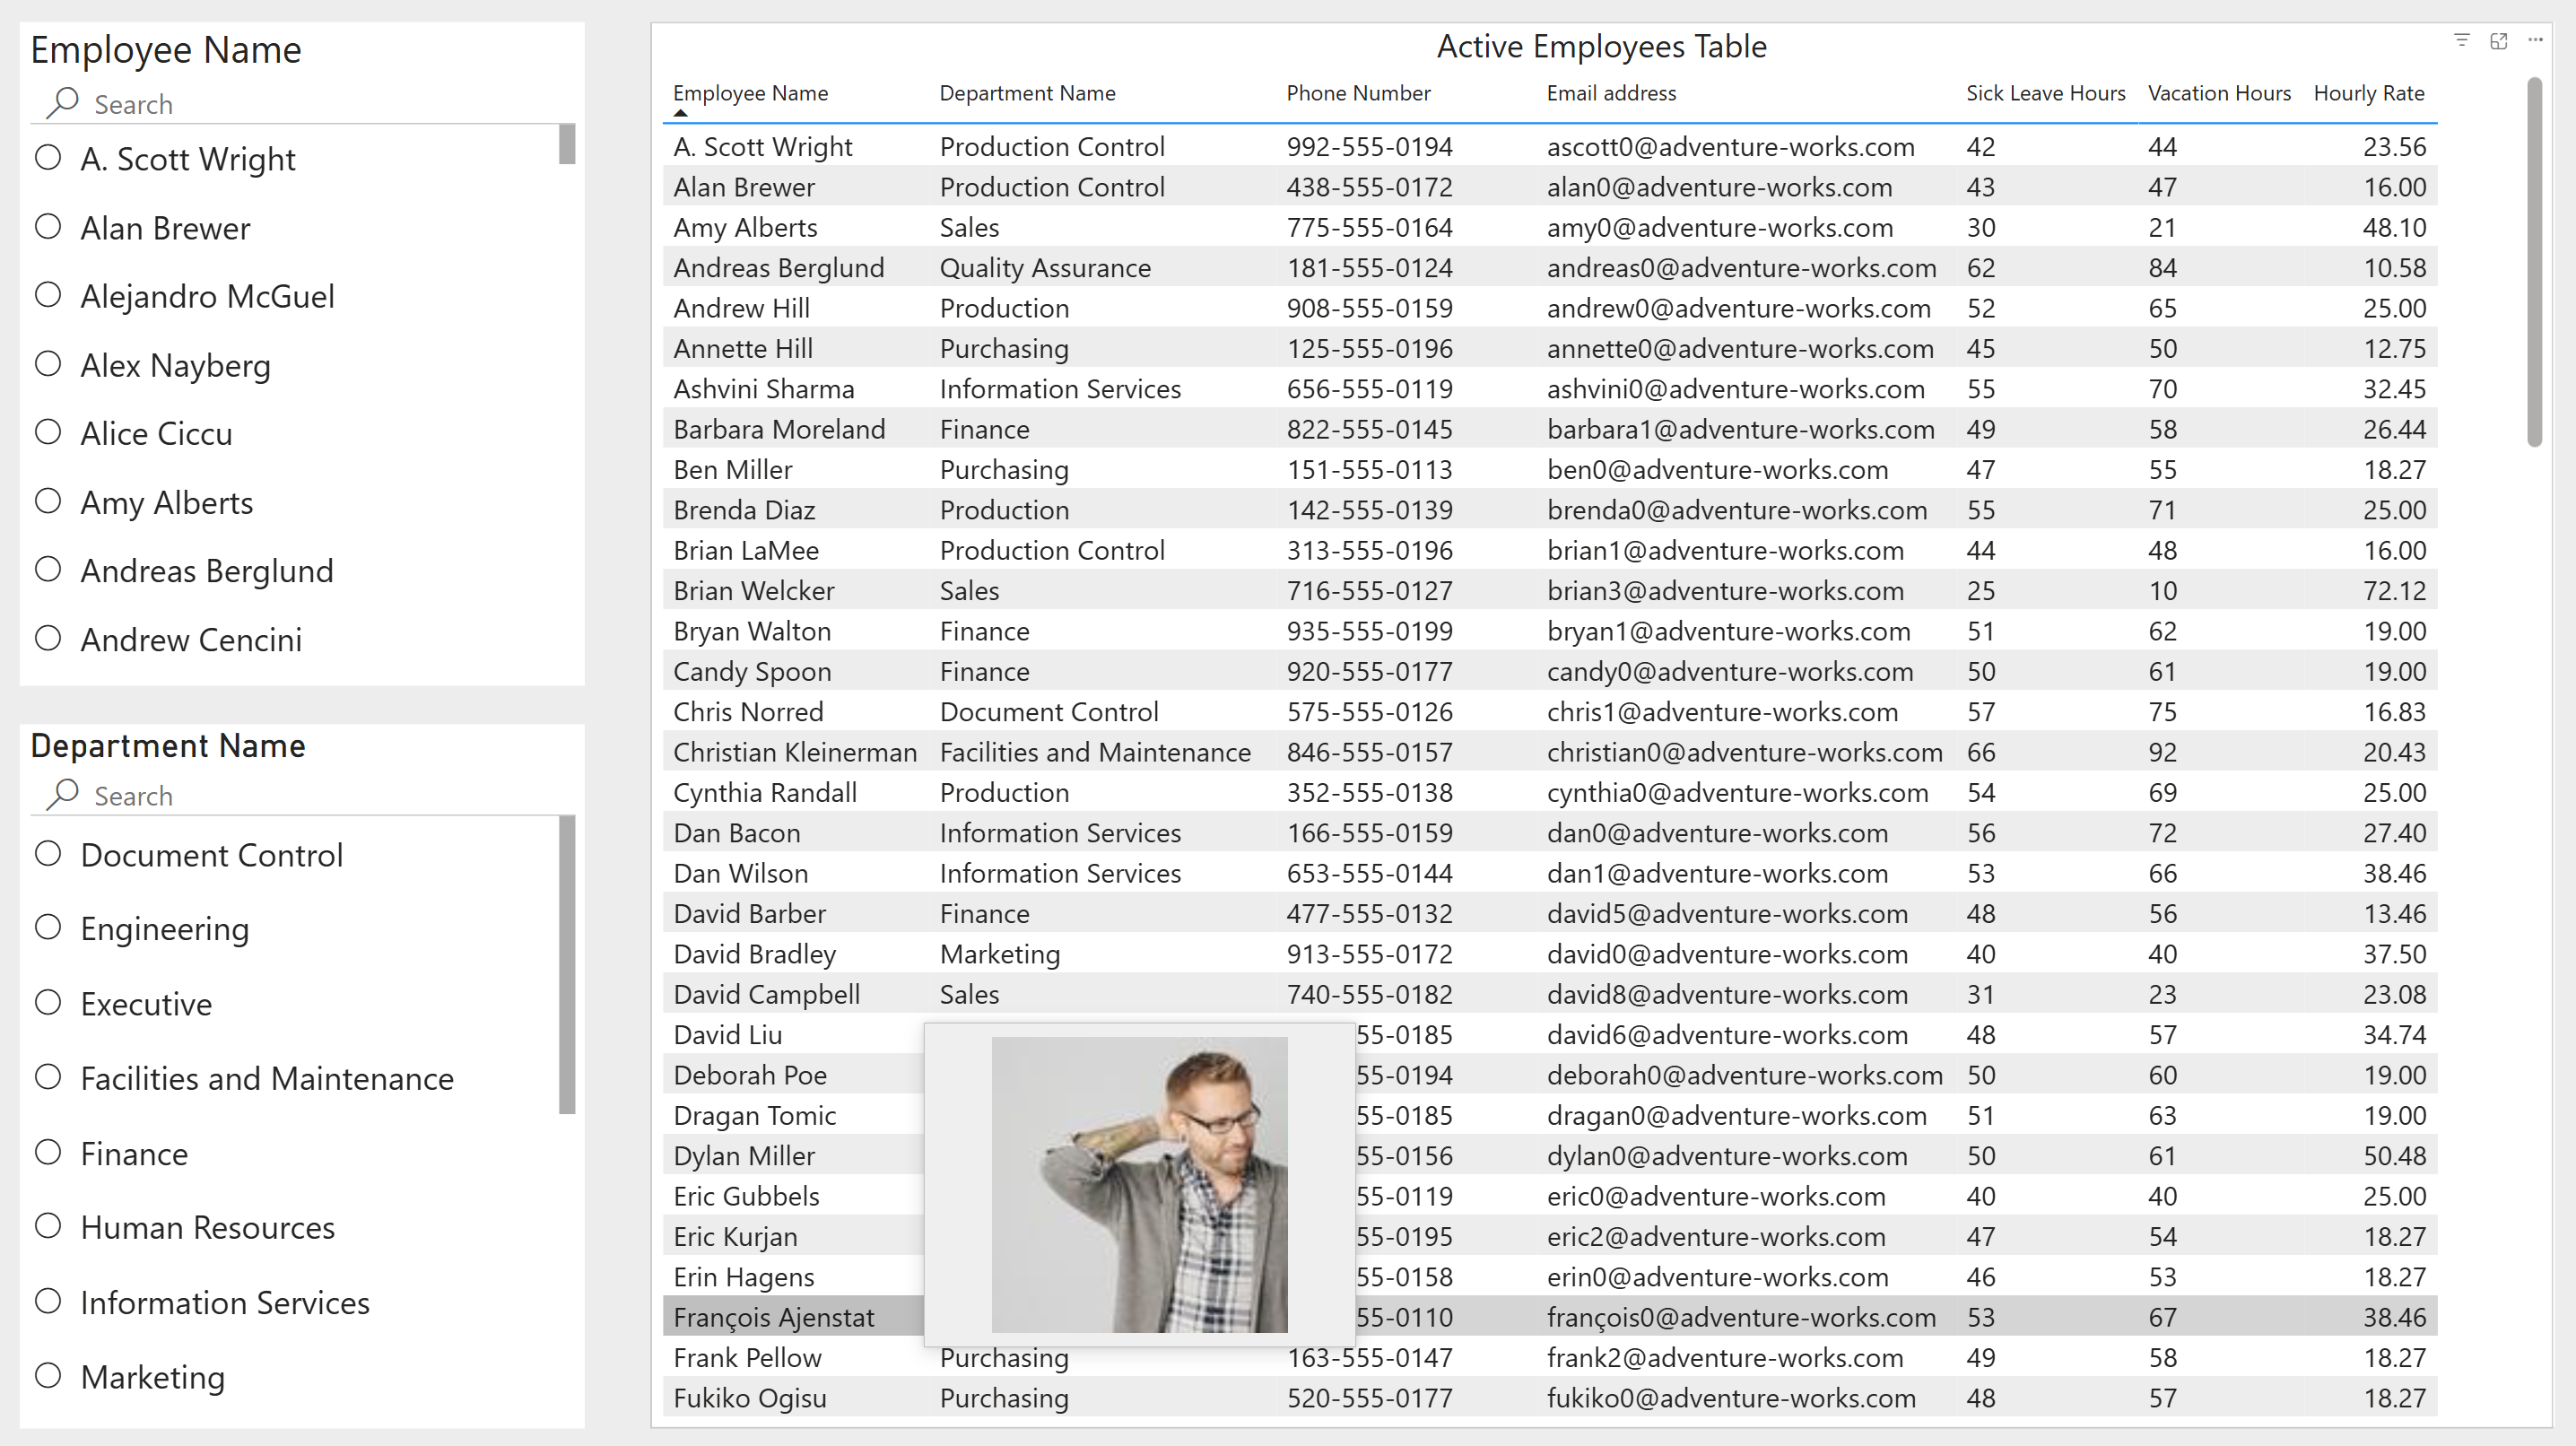

The dashboard page shown, as its layout file describes it:
{"tool":"powerbi","page":{"name":"Employee Details","canvas":[1280,720],"ordinal":1},"visuals":[{"type":"shape","box":[0,0,1280,720.5],"z":0},{"type":"tableEx","title":"Active Employees Table","fields":{"Values":["EmployeeDepartmentHistory.Full Name","department.Name","contact.Phone","contact.Emailaddress","employee.SickLeaveHours","employee.VacationHours","Measures Table.Avg Hourly Rate by Dept"]},"box":[323.1,11.5,943.1,696.2],"z":1000},{"type":"listSlicer","fields":{"Values":["department.Name"]},"box":[10.8,359.2,280,348.5],"z":2000},{"type":"listSlicer","fields":{"Values":["EmployeeDepartmentHistory.Full Name"]},"box":[10.8,11.5,280,328.5],"z":3000}]}

Visuals, with their boxes on the page's 1280x720 design canvas (x1, y1, x2, y2). These are canvas units, not pixel positions in the 2576x1446 screenshot, which may show the page scaled, cropped or inside an application window:
shape: locate(0, 0, 1280, 720)
"Active Employees Table" tableEx: locate(323, 12, 1266, 708)
listSlicer - department.Name: locate(11, 359, 291, 708)
listSlicer - EmployeeDepartmentHistory.Full Name: locate(11, 12, 291, 340)
